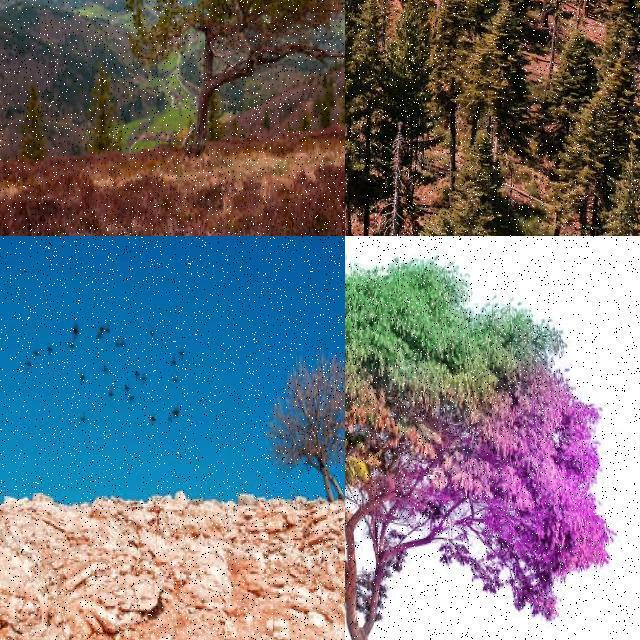tree: (345, 236, 637, 640), (128, 0, 344, 170), (551, 55, 640, 209), (267, 343, 345, 503), (346, 0, 390, 236), (344, 14, 388, 236), (360, 0, 446, 100), (462, 0, 526, 124), (438, 0, 507, 91), (494, 0, 574, 76), (384, 0, 434, 86), (0, 51, 28, 177), (551, 30, 593, 114), (344, 52, 368, 176), (576, 0, 620, 64), (16, 86, 50, 164), (345, 0, 377, 80), (345, 0, 373, 91), (345, 32, 371, 120), (90, 63, 114, 153), (345, 0, 377, 64), (345, 0, 375, 56), (538, 0, 580, 40), (346, 0, 366, 56), (495, 1, 531, 32), (467, 1, 498, 32), (346, 0, 362, 60), (346, 1, 366, 44), (345, 0, 365, 42), (344, 1, 360, 40), (345, 0, 361, 32)
